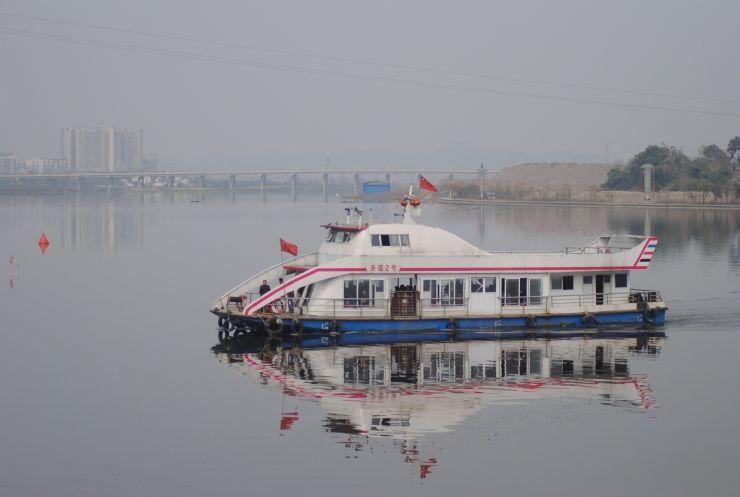otherboat: (217, 181, 666, 340)
